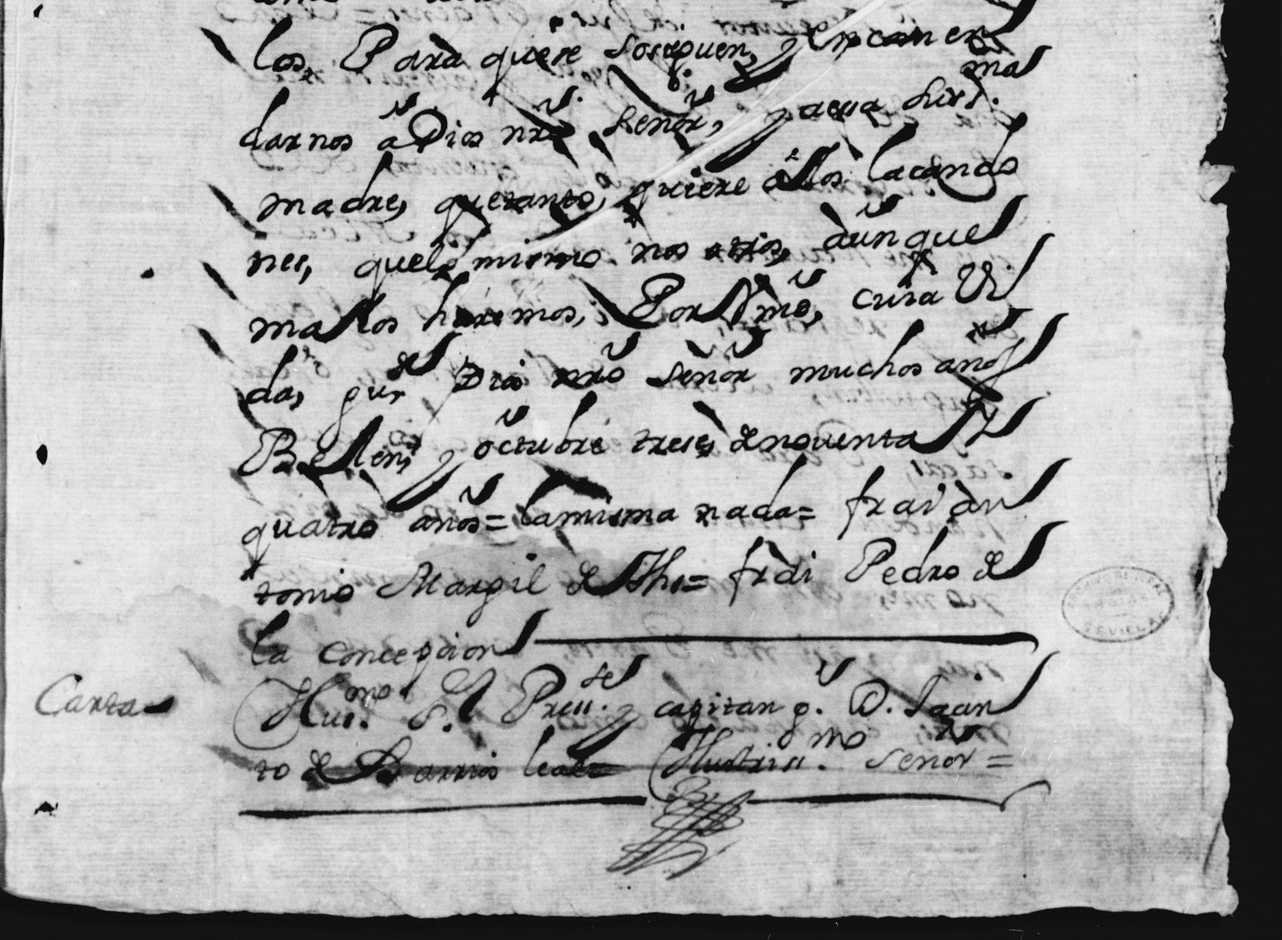lacandon: (868, 111, 1027, 182)
